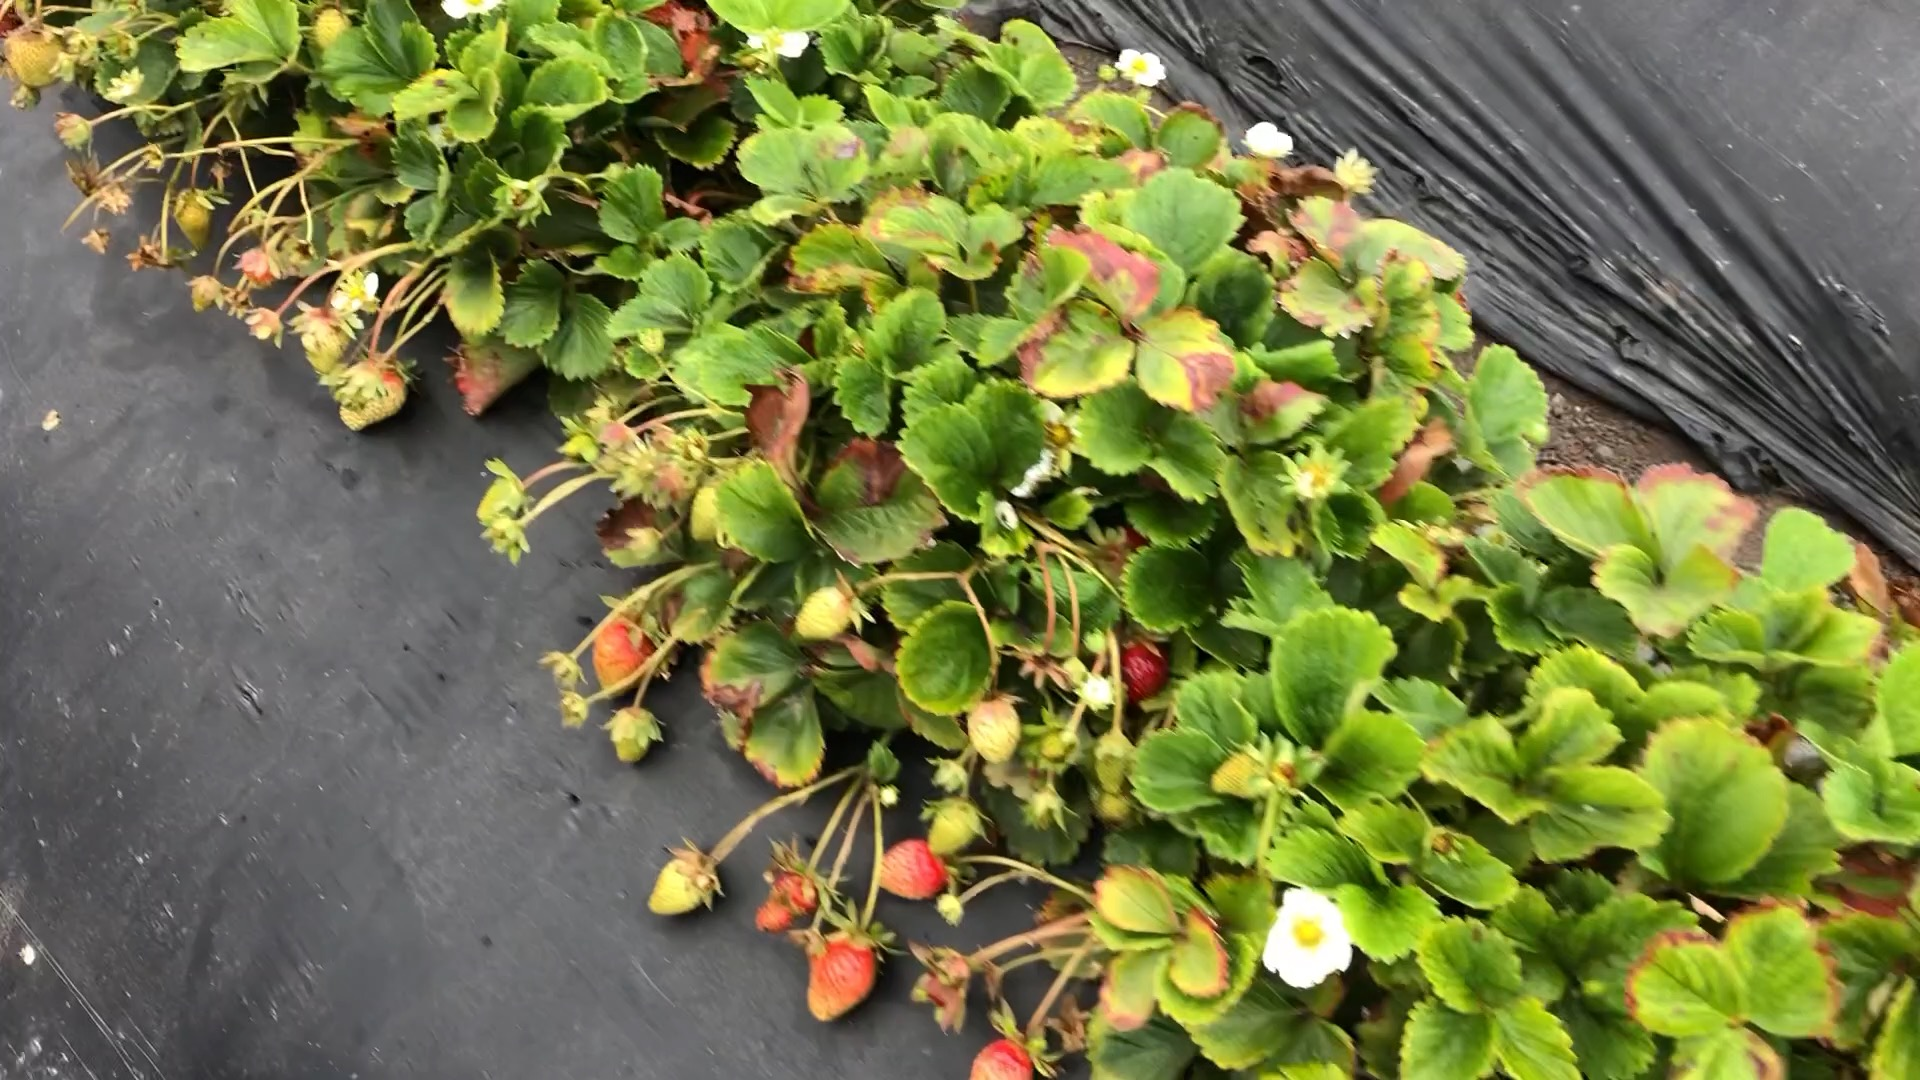ripe_strawberry: (804, 926, 882, 1025), (872, 836, 953, 905), (752, 866, 824, 938)
unripe_strawberry: (336, 356, 406, 438), (589, 618, 658, 700), (638, 851, 717, 916), (295, 306, 357, 375), (1118, 634, 1176, 705), (965, 694, 1021, 767), (7, 29, 69, 92), (926, 793, 984, 858), (171, 185, 218, 257), (969, 1035, 1040, 1080), (603, 713, 658, 765), (189, 273, 222, 315)
